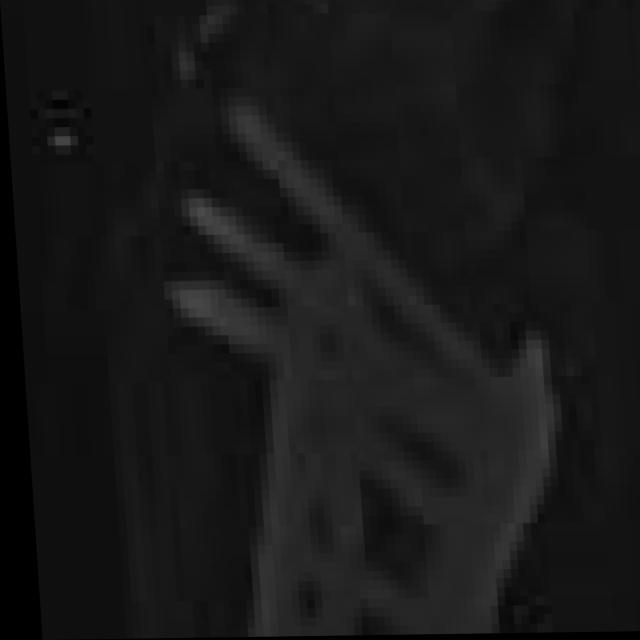fracture: (20, 0, 640, 634)
